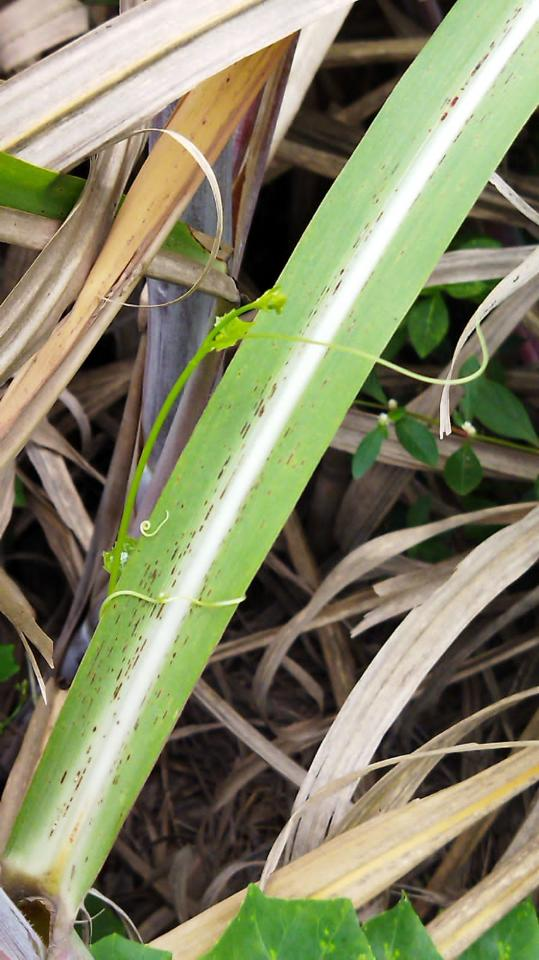Rust: (137, 359, 291, 598), (45, 596, 168, 842), (84, 602, 204, 830), (195, 399, 318, 603), (424, 4, 525, 136), (406, 109, 492, 214), (350, 160, 402, 254), (296, 264, 347, 335), (481, 37, 527, 98), (340, 267, 379, 336), (66, 863, 78, 893), (322, 346, 333, 361), (81, 853, 91, 865), (320, 377, 330, 388)
